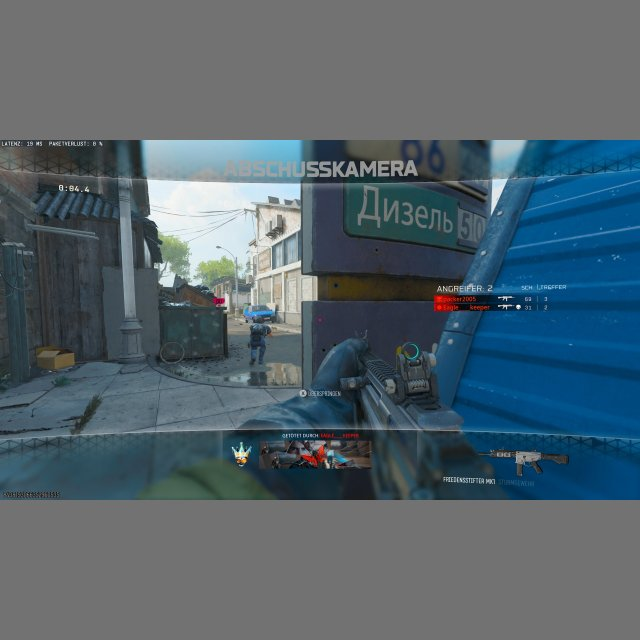player: (247, 316, 271, 367)
